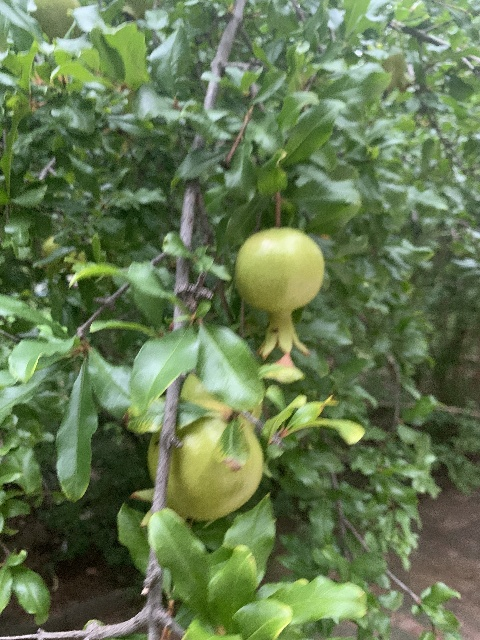mid-growth: (129, 399, 264, 529), (233, 226, 324, 361)
